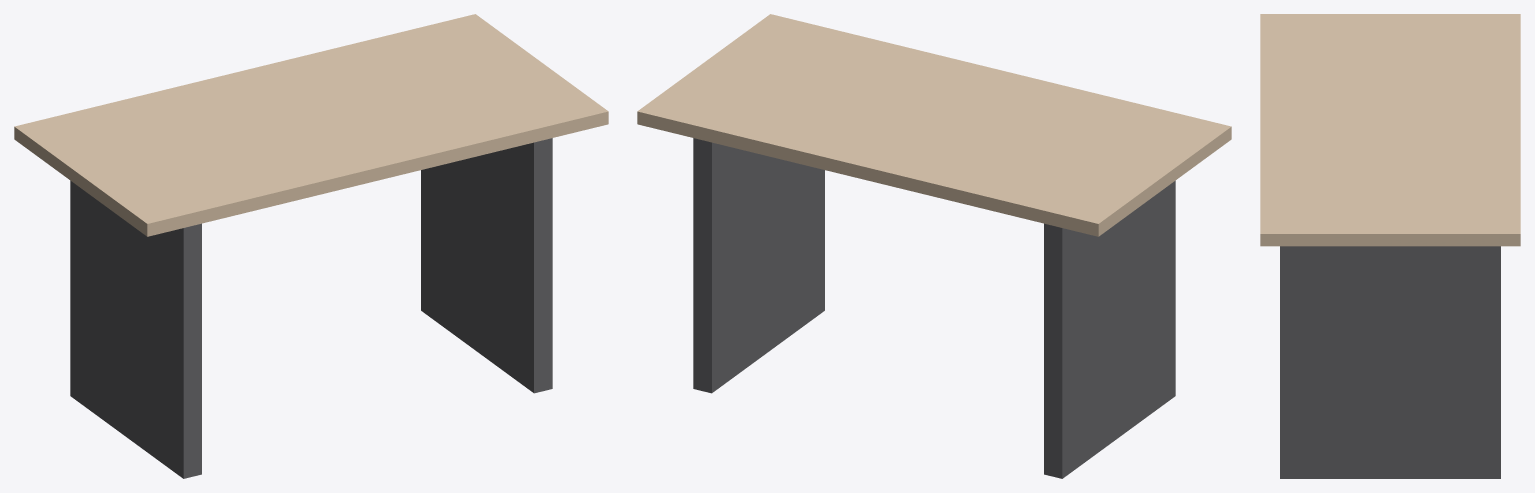
Rendered from DSK-003.glb.
The picture shows the model from 3 angles, left to right: view 1: azimuth 30°, elevation 25°; view 2: azimuth 150°, elevation 25°; view 3: azimuth 270°, elevation 25°; orthographic projection. The views are drawn at different scales.
Visible parts, largest first — view 1: Cube, Cube.001, Cube.002; view 2: Cube, Cube.001, Cube.002; view 3: Cube, Cube.002.
Part boxes in pixels (<box>): Cube: <box>14,14,608,236</box>; Cube.001: <box>70,180,201,478</box>; Cube.002: <box>421,138,552,393</box>; Cube: <box>637,14,1231,236</box>; Cube.001: <box>1044,180,1175,478</box>; Cube.002: <box>693,138,824,393</box>; Cube: <box>1260,14,1520,246</box>; Cube.002: <box>1280,246,1500,478</box>.
Size of the model in its own units: 1.5 by 0.85 by 0.75.
